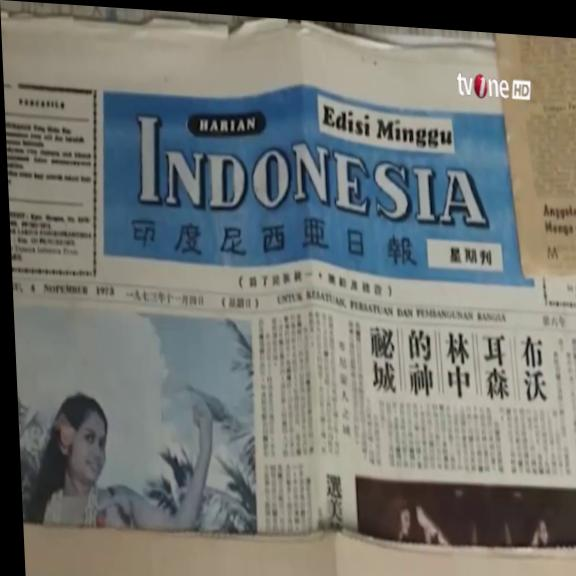Kertas: (1, 6, 574, 324), (253, 288, 576, 548), (251, 303, 343, 534), (4, 82, 110, 282)
